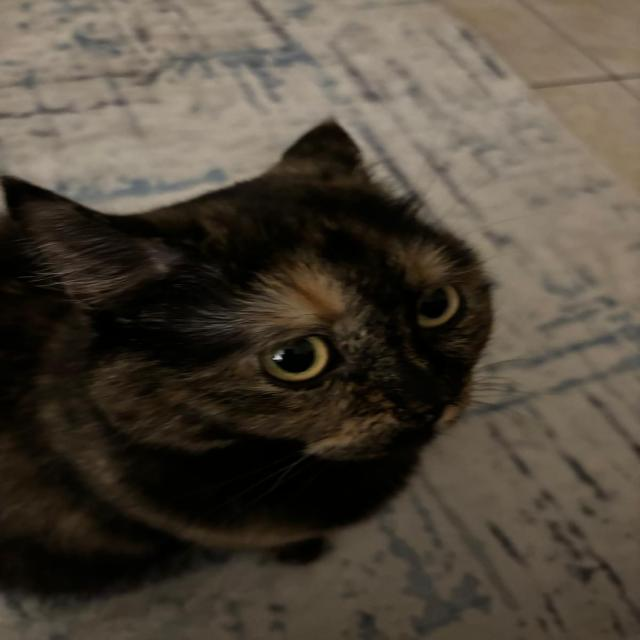authorized: (0, 115, 505, 600)
